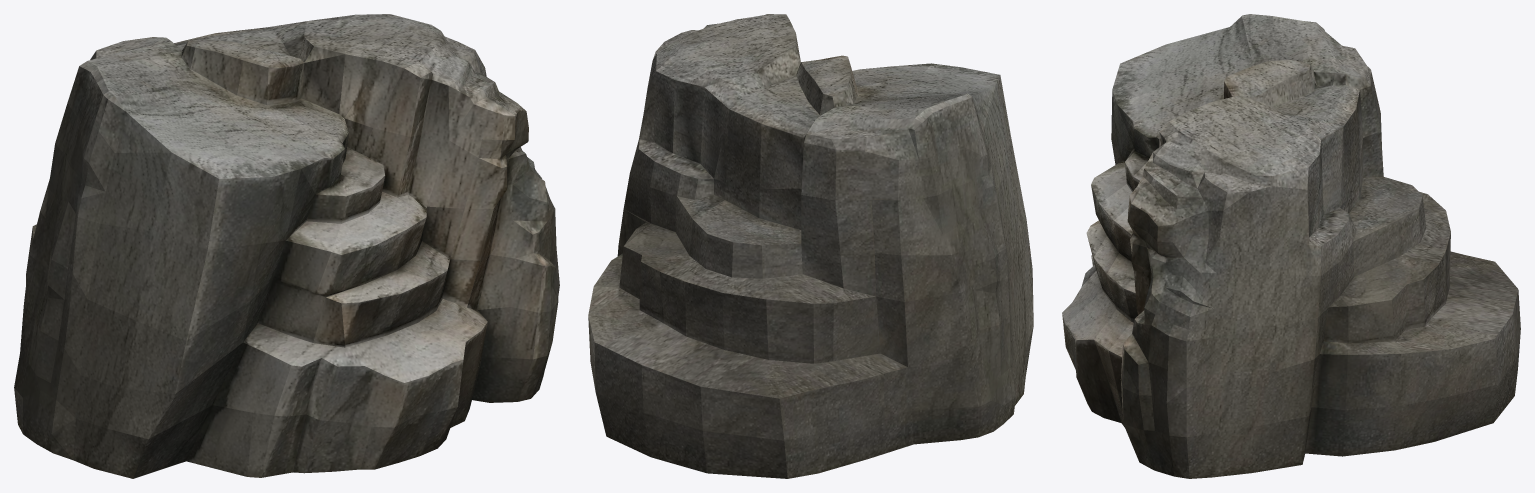
File: rockformationpacked.fbx
3 views of the same model, side by side, from view 1: azimuth 30°, elevation 25°; view 2: azimuth 150°, elevation 25°; view 3: azimuth 270°, elevation 25° (orthographic). The views are drawn at different scales.
Visible parts, largest first — view 1: tripo_node_bc5f5023; view 2: tripo_node_bc5f5023; view 3: tripo_node_bc5f5023.
Boxes of the visible parts, x1,y1,x2,y2 form: tripo_node_bc5f5023: (14, 14, 559, 478); tripo_node_bc5f5023: (588, 14, 1033, 478); tripo_node_bc5f5023: (1062, 14, 1520, 478).
Bounding box in the file's own units: 300 × 218 × 300.
Materials: 1 (1 with a texture image).
